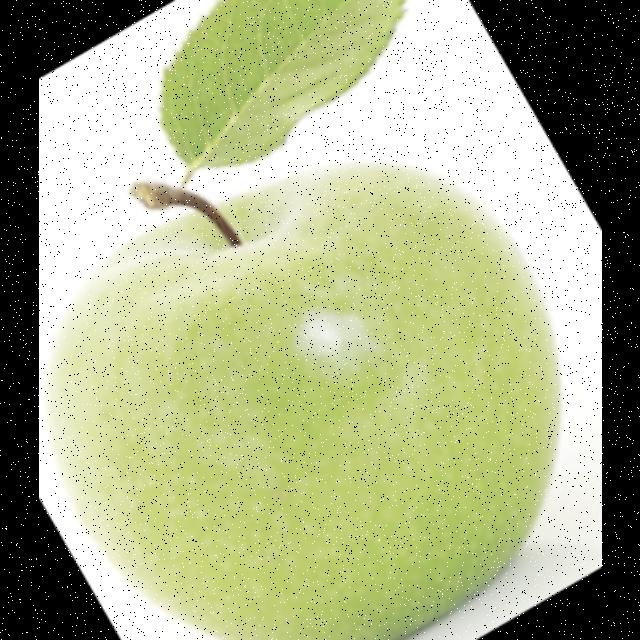Apel Segar: (51, 156, 566, 640)
